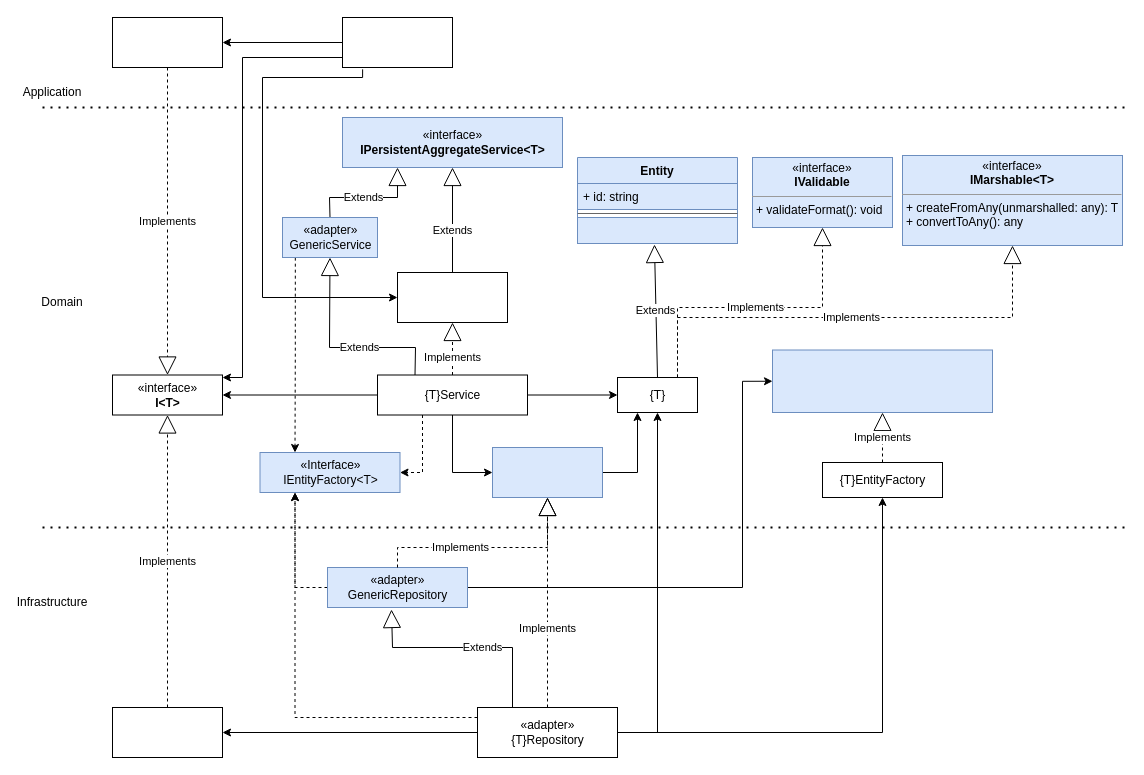
This 1144x775 diagram has some shape labels left out. The shapes that lost their labels are listed below. From the top down, each one's box as (x1, y1, x2, y2) in pixels, then its label:
(112, 16, 222, 68): {T}DTO
(342, 16, 452, 68): {T}Controller
(576, 216, 738, 244): + getId(): string
(396, 272, 508, 322): «interface» I {T} Service<T>
(772, 349, 992, 412): «interface» IEntityFactory<T> + createInstance(unmarshalled: any): T
(492, 446, 602, 498): «interface» IRepository<T>
(112, 706, 222, 758): «document» {T}Schema
